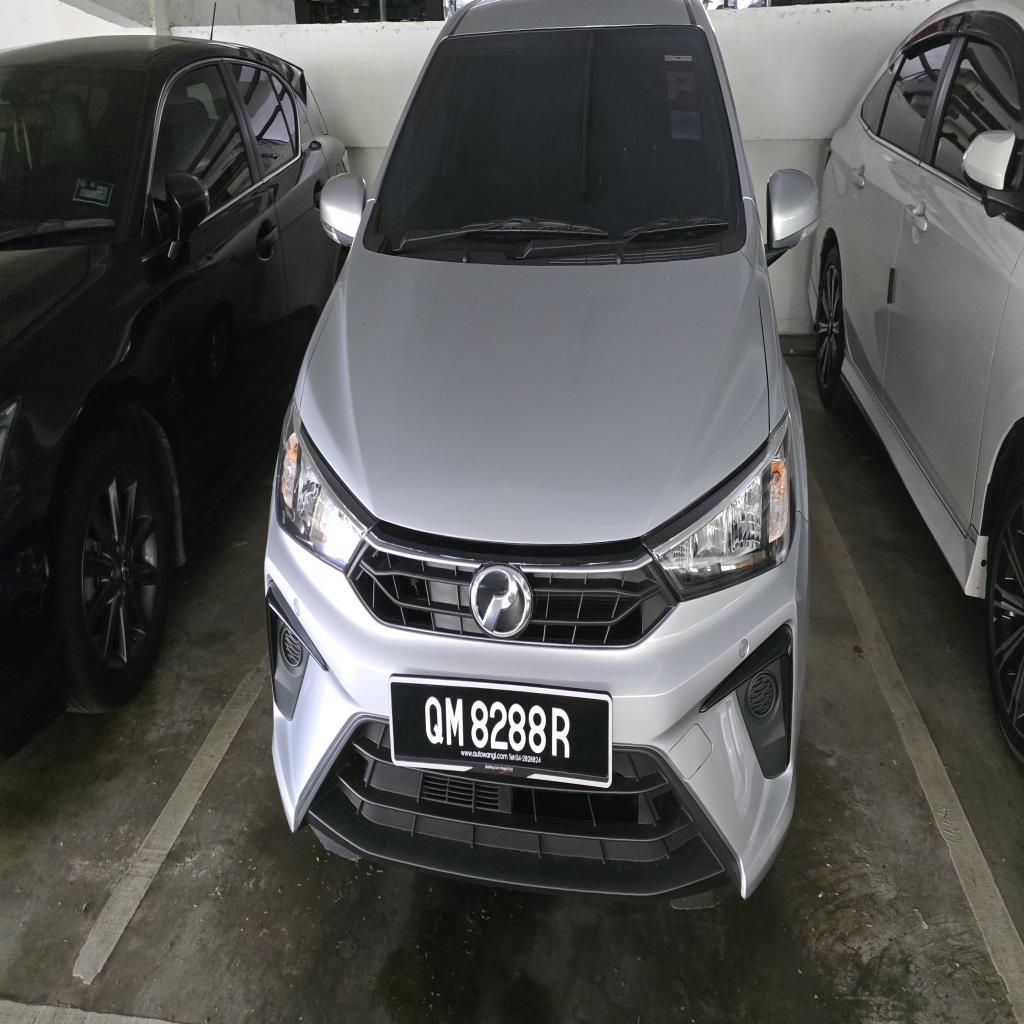car: (266, 0, 817, 905)
car plate: (391, 678, 611, 787)
